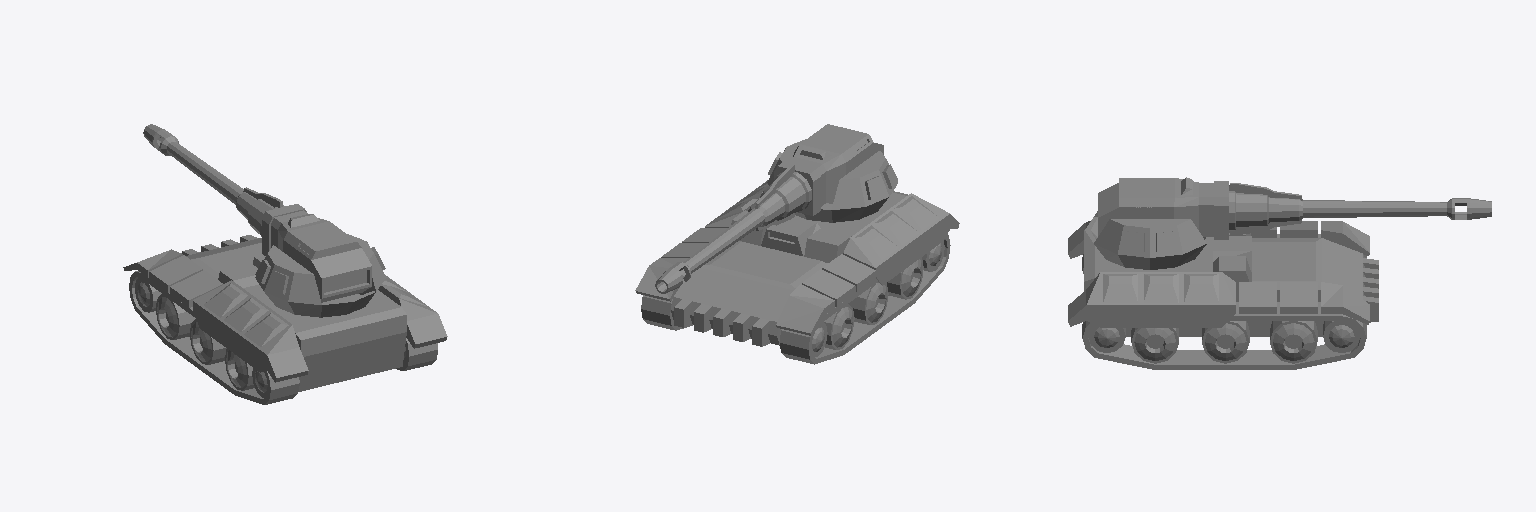
The model's file is ballista.obj.
The picture shows the model from 3 angles: view 1: azimuth 30°, elevation 25°; view 2: azimuth 150°, elevation 25°; view 3: azimuth 270°, elevation 25°; orthographic projection.
Visible parts, largest first — view 1: U3DMesh, mantlet_1, turret, trackr, barrel_1, wheel2, wheel3, wheel4, trackr01, wheel1; view 2: U3DMesh, mantlet_1, turret, trackr, barrel_1, wheel3, wheel2, wheel4, trackr01; view 3: U3DMesh, mantlet_1, turret, trackr01, barrel_1, wheel7, wheel8, wheel9, wheel6, wheel10.
Boxes of the visible parts, box(x1,y1,x2,y2) form: U3DMesh: box(123, 235, 447, 391); mantlet_1: box(236, 187, 371, 302); turret: box(255, 234, 385, 317); trackr: box(129, 271, 299, 404); barrel_1: box(143, 124, 243, 204); wheel2: box(156, 294, 195, 339); wheel3: box(190, 319, 226, 364); wheel4: box(225, 349, 254, 390); trackr01: box(396, 338, 437, 370); wheel1: box(135, 278, 161, 312); U3DMesh: box(635, 180, 959, 346); mantlet_1: box(748, 124, 883, 230); turret: box(767, 139, 897, 222); trackr: box(779, 234, 950, 364); barrel_1: box(655, 208, 764, 293); wheel3: box(848, 282, 888, 324); wheel2: box(824, 304, 854, 349); wheel4: box(887, 257, 923, 299); trackr01: box(641, 295, 692, 330); U3DMesh: box(1068, 221, 1378, 336); mantlet_1: box(1098, 177, 1302, 239); turret: box(1085, 211, 1210, 269); trackr01: box(1082, 302, 1366, 369); barrel_1: box(1303, 198, 1491, 219); wheel7: box(1270, 321, 1317, 363); wheel8: box(1202, 321, 1249, 363); wheel9: box(1131, 328, 1178, 363); wheel6: box(1323, 321, 1359, 352); wheel10: box(1089, 326, 1125, 352).
Bounding box in the file's own units: 35.93 × 28.67 × 75.38.